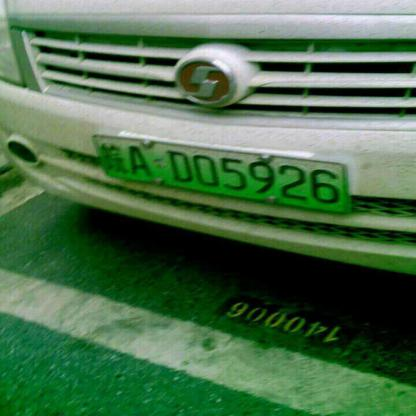lp: (92, 136, 346, 214)
